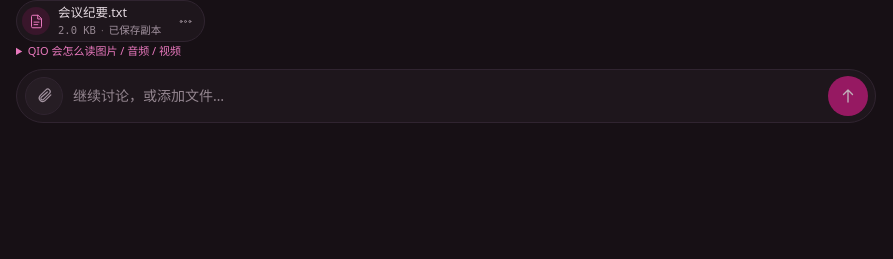
it: 附件没附上：文本与附件留着，原因与出口都在 › 结构化 409 → 草稿与附件保留、逐条原因可见、「移除这些附件后发送」可用
The width and height of the screenshot is (893, 259).
Expected: the number of elements with class "chip" is 1, left=16, top=0, right=205, bottom=42
Type "看看这个文件" into the text box with placeholder "继续讨论，或添加文件…" at point(446, 96), box left=69, top=83, right=822, bottom=109
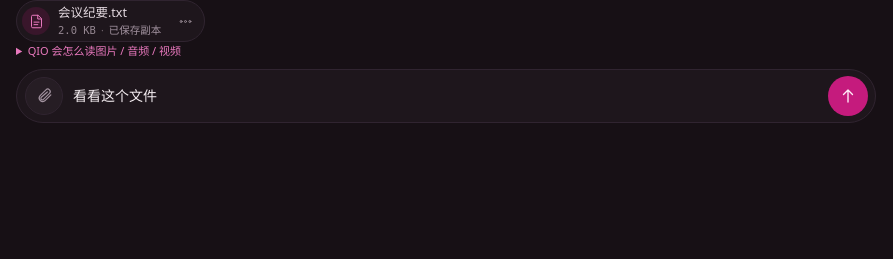
Click the button with class "send-btn" at point(848, 96), box left=828, top=76, right=868, bottom=116
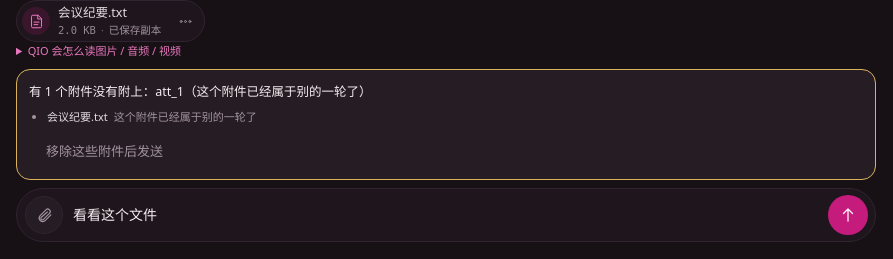
Expected: the message with test id "attach-reject" is shown, left=16, top=69, right=876, bottom=180
Expected: the message with test id "attach-reject" shows "这个附件已经属于别的一轮了", left=114, top=109, right=257, bottom=124
Expected: the message with test id "attach-reject" shows "会议纪要.txt", left=47, top=109, right=108, bottom=124
# 「移除这些附件后发送」：移除后立刻重发（第二次成功）
Click the button with test id "attach-reject-remove" at point(104, 150), box left=29, top=133, right=180, bottom=167
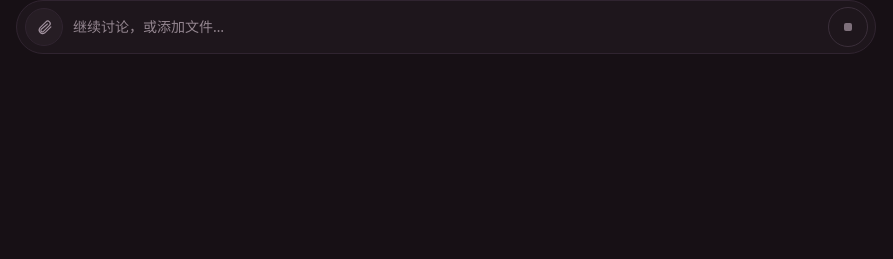
Expected: no elements with class "chip" are shown
